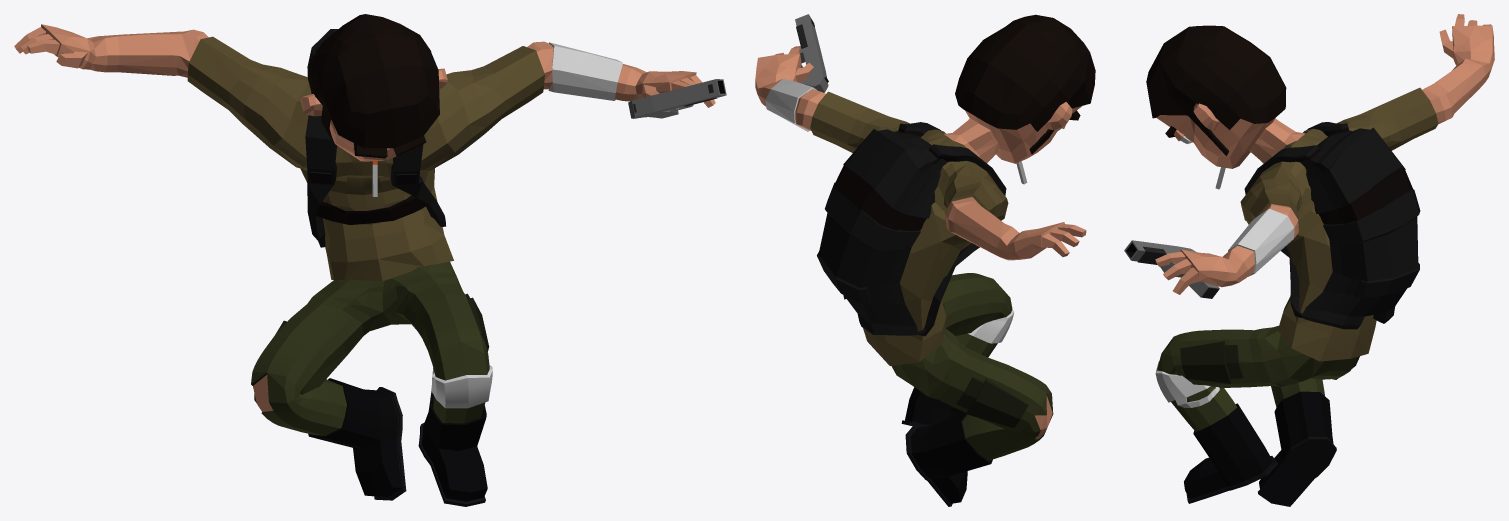
Rendered from frame_0001.obj.
3 views of the same model, side by side, from view 1: azimuth 30°, elevation 25°; view 2: azimuth 150°, elevation 25°; view 3: azimuth 270°, elevation 25° (orthographic). The views are drawn at different scales.
Parts seen in each view (by area): view 1: Cube, Cube.001; view 2: Cube, Cube.001; view 3: Cube, Cube.001.
Part boxes in pixels (box(x1,y1,x2,y2)): Cube: box(14, 14, 715, 506); Cube.001: box(628, 79, 726, 118); Cube: box(755, 14, 1095, 506); Cube.001: box(795, 14, 828, 92); Cube: box(1146, 14, 1494, 506); Cube.001: box(1124, 240, 1219, 298).
Bounding box in the file's own units: 3.05 × 2.92 × 2.14.
